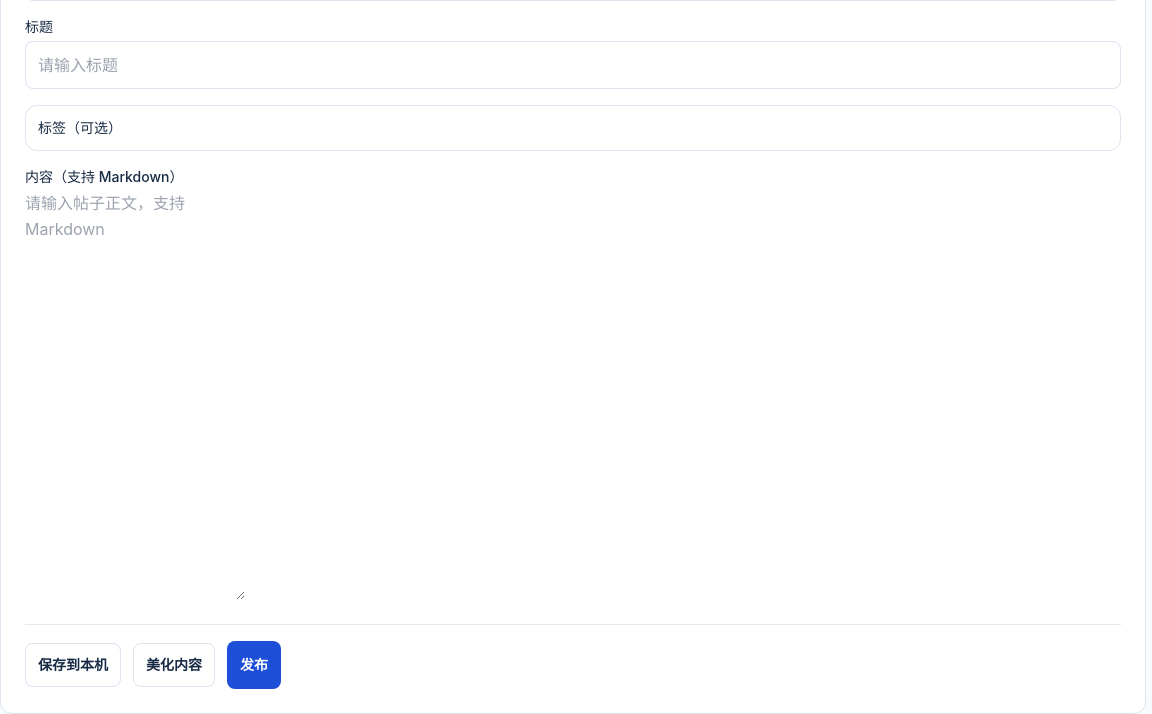
ThreadCreate › explains why manual save is pending and leaves shared keys untouched
(page scrolled)
Click the button "保存到本机": click(73, 665) x1=25 y1=643 x2=121 y2=687
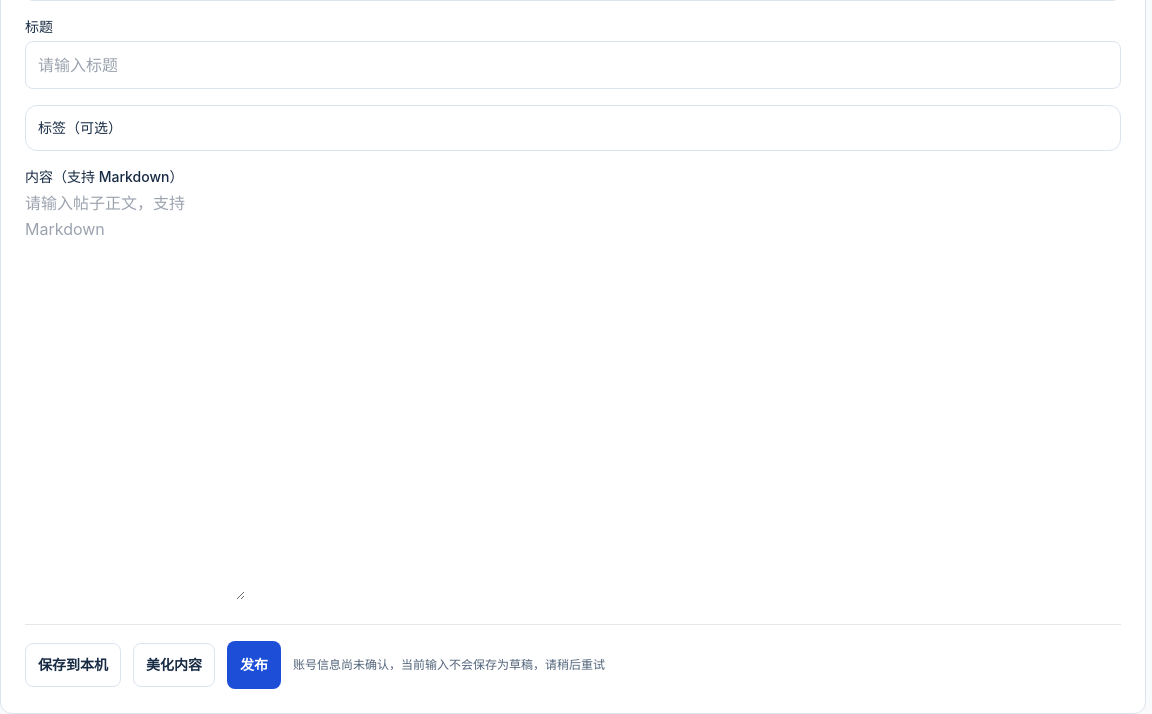
Expected: the text "账号信息尚未确认，当前输入不会保存为草稿" is shown, x1=293 y1=657 x2=605 y2=672
